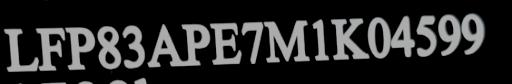letter: (264, 14, 314, 64), (327, 12, 371, 63), (144, 17, 182, 75), (208, 15, 244, 71), (2, 21, 40, 74), (64, 21, 98, 74), (180, 19, 210, 71), (458, 9, 488, 58), (121, 21, 149, 73), (412, 10, 442, 58), (388, 11, 418, 59), (366, 12, 394, 63), (38, 21, 66, 72), (95, 22, 123, 73), (435, 10, 463, 57), (240, 16, 264, 68), (310, 12, 330, 68)
